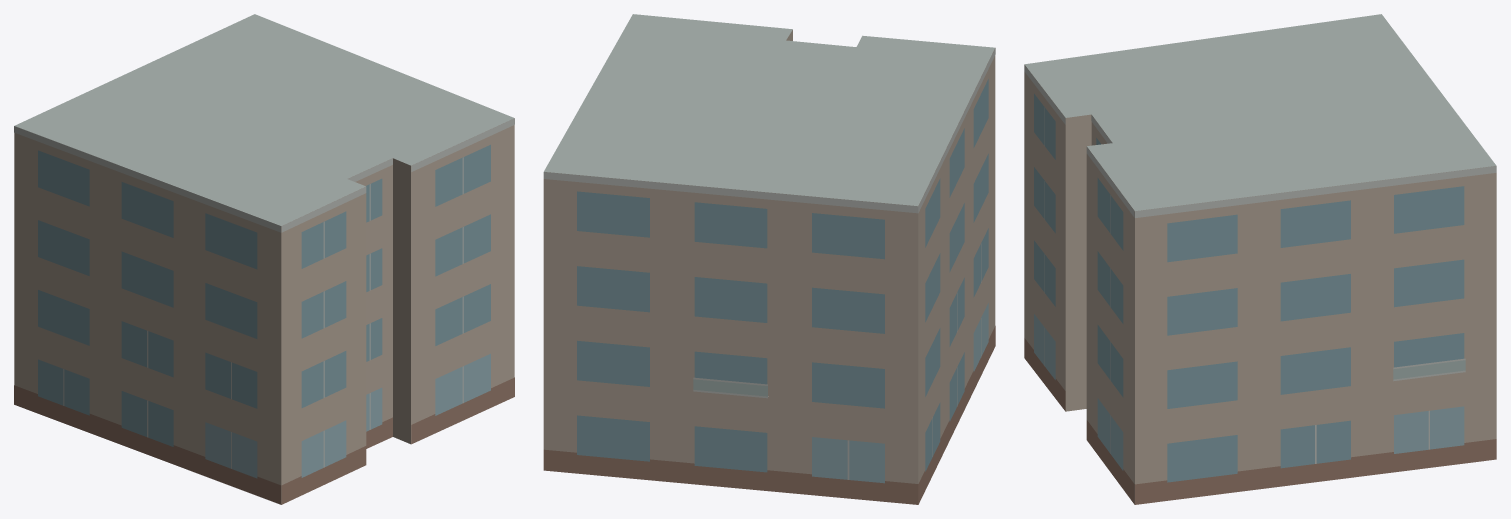
File: survey-upis-32957504.glb
The picture shows the model from 3 angles, left to right: view 1: azimuth 30°, elevation 25°; view 2: azimuth 150°, elevation 25°; view 3: azimuth 270°, elevation 25°; orthographic projection. The views are drawn at different scales.
Visible parts, largest first — view 1: survey-upis-32957504.tmp; view 2: survey-upis-32957504.tmp; view 3: survey-upis-32957504.tmp.
Part boxes in pixels (x1,y1,x2,y2): survey-upis-32957504.tmp: (14,14,514,504); survey-upis-32957504.tmp: (543,14,995,504); survey-upis-32957504.tmp: (1024,14,1496,504).
Size of the model in its own units: 14.7 by 10.2 by 14.87.
